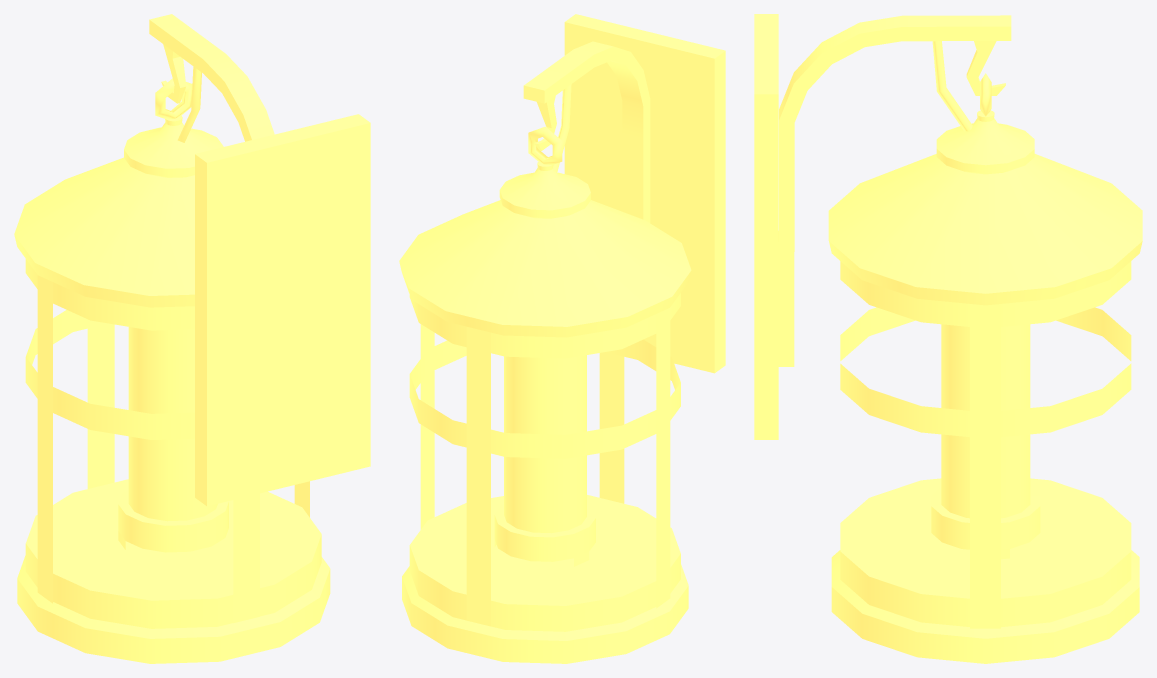
File: SM_Light_Porch_01.FBX
The picture shows the model from 3 angles, left to right: view 1: azimuth 30°, elevation 25°; view 2: azimuth 150°, elevation 25°; view 3: azimuth 270°, elevation 25°; orthographic projection. The views are drawn at different scales.
Parts seen in each view (by area): view 1: SM_Light_Porch_01; view 2: SM_Light_Porch_01; view 3: SM_Light_Porch_01.
Boxes of the visible parts, x1=… form: SM_Light_Porch_01: x1=14, y1=14, x2=370, y2=663; SM_Light_Porch_01: x1=399, y1=14, x2=725, y2=663; SM_Light_Porch_01: x1=754, y1=14, x2=1142, y2=663.
Size of the model in its own units: 20.39 by 24.6 by 40.23.
